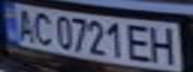0: (51, 12, 72, 51)
1: (103, 19, 127, 58)
2: (84, 17, 106, 56)
7: (66, 15, 87, 53)
A: (9, 6, 39, 43)
C: (27, 9, 57, 46)
E: (124, 21, 154, 63)
H: (145, 24, 181, 66)
